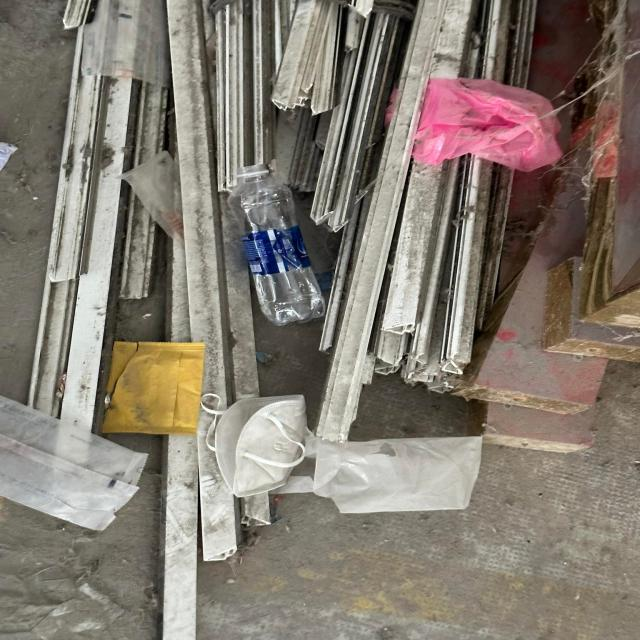bag: (413, 80, 564, 171), (306, 436, 482, 513)
bottle: (226, 165, 326, 325)
mask: (0, 393, 149, 531), (201, 394, 312, 498)
packet: (103, 340, 205, 435)
